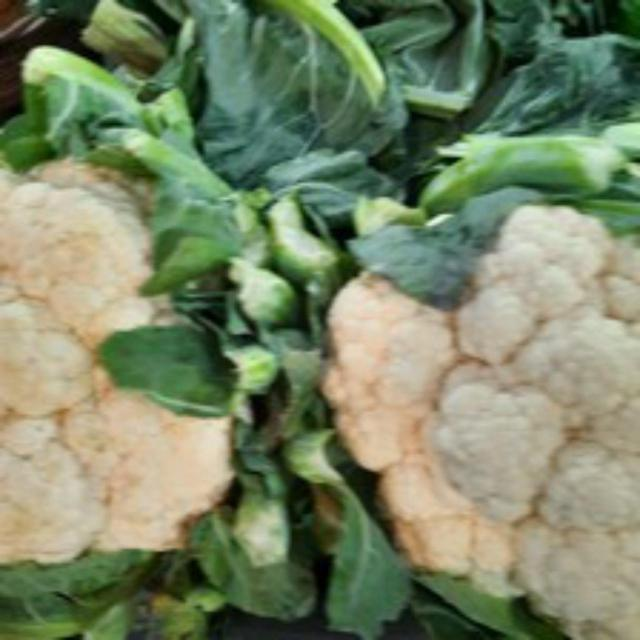cauliflower: (311, 186, 637, 636)
